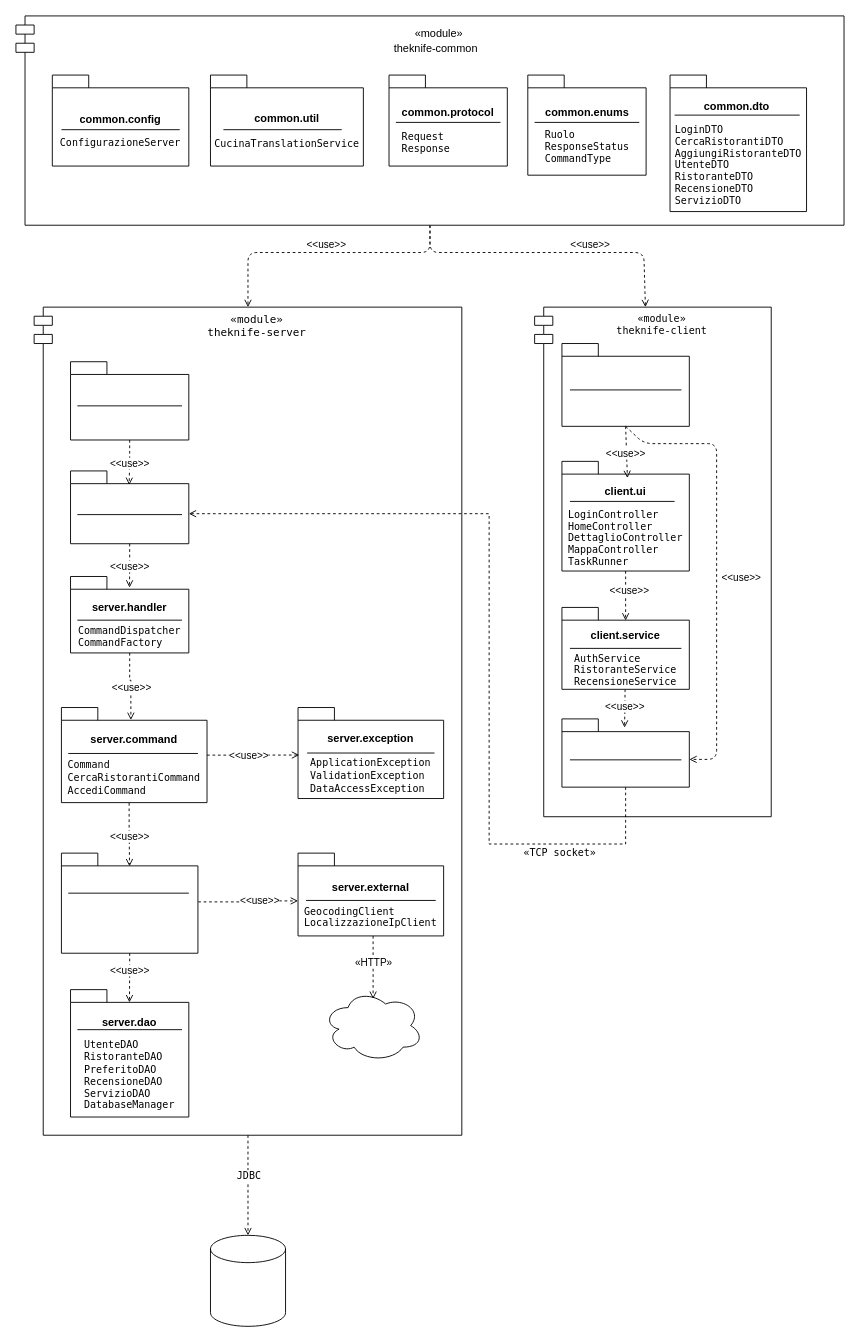
This 860x1342 diagram has some shape labels left out. The centre of each missing label's shape, as x and y in pixels:
"client.app TheKnifeClient ClientApplication" goes at [625,384].
"client.network ServerConnection" goes at [625,752].
"PostgreSQL" goes at [248,1280].
"server ConfigurazioneDB TheKnifeServer" goes at [129,400].
"server.network Server ClientHandler" goes at [129,507].
"server.service UtenteService RistoranteService RecensioneService SessionManager" goes at [129,902].
"Servizi Esterni" goes at [372,1025].
